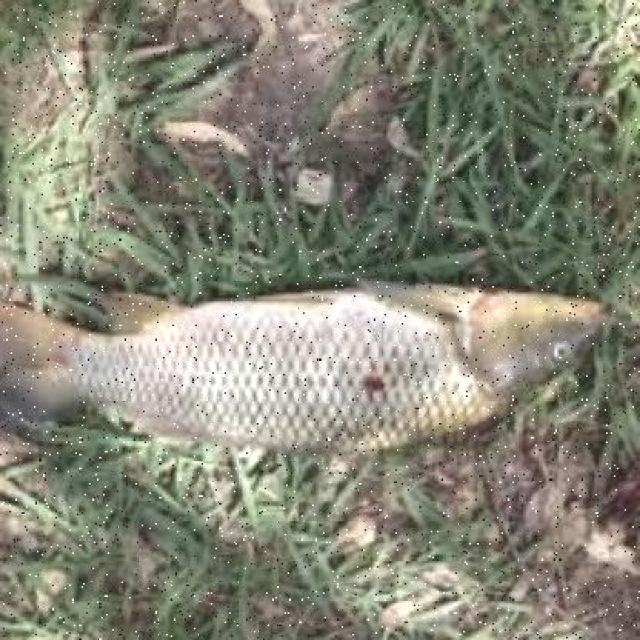ikan-mas: (1, 278, 606, 457)
